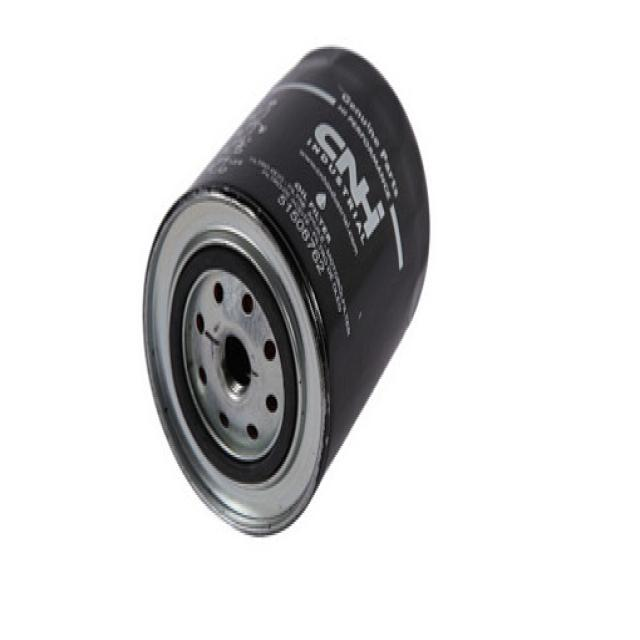oil_filter: (141, 27, 427, 536)
